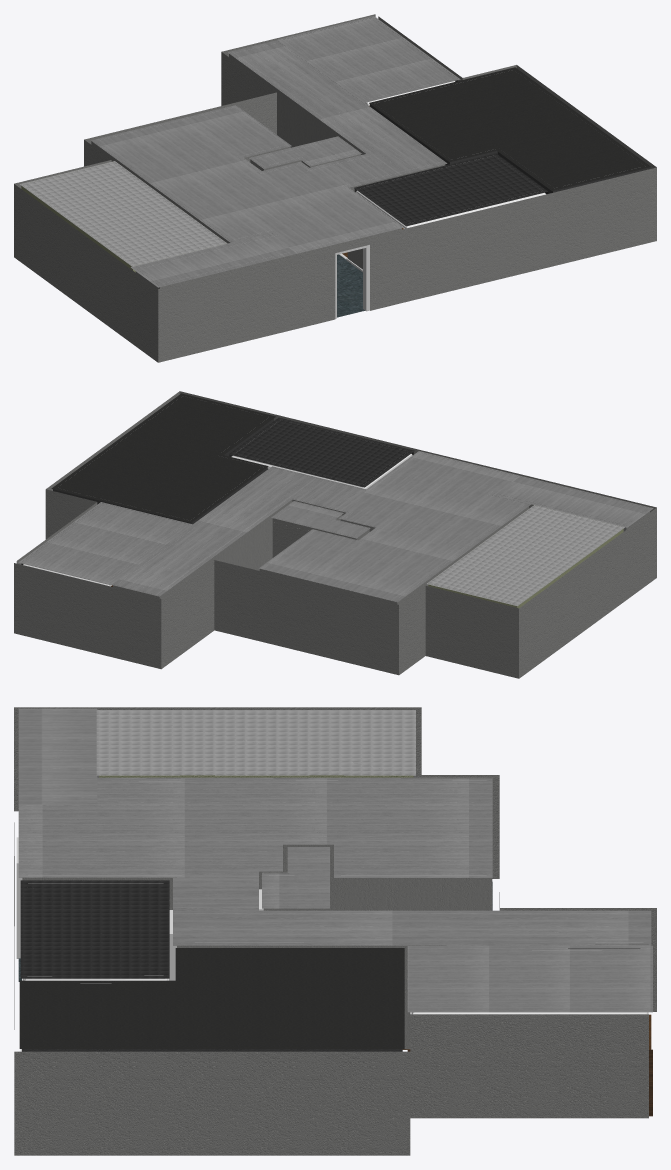
The model's file is House.v07.fbx.
The picture shows the model from 3 angles, top to bottom: view 1: azimuth 30°, elevation 25°; view 2: azimuth 150°, elevation 25°; view 3: azimuth 270°, elevation 25°; orthographic projection. The views are drawn at different scales.
Visible parts, largest first — view 1: Walls_Outside, Ceiling_Living Room, Ceiling_Garage, Ceiling_Kitchen, Ceiling_Hall, Ceiling_Office, Ceiling_Bathroom, Ceiling_Stairs, Walls_Living_Room, Ceiling_Closet, Floor_Living Room, Walls_Garage (+2 smaller); view 2: Walls_Outside, Ceiling_Living Room, Ceiling_Garage, Ceiling_Kitchen, Ceiling_Hall, Ceiling_Office, Ceiling_Bathroom, Ceiling_Stairs, Walls_Living_Room, Ceiling_Closet, Walls_Closet, Walls_Garage (+2 smaller); view 3: Walls_Outside, Ceiling_Living Room, Ceiling_Garage, Ceiling_Kitchen, Ceiling_Hall, Ceiling_Office, Ceiling_Bathroom, Walls_Living_Room, Ceiling_Stairs, Ceiling_Closet, Walls_Garage, Walls_Kitchen (+1 smaller).
Part boxes in pixels (x1,y1,x2,y2): Walls_Outside: (14,14,656,362); Ceiling_Living Room: (91,105,403,253); Ceiling_Garage: (369,67,650,190); Ceiling_Kitchen: (20,161,227,266); Ceiling_Hall: (228,40,447,187); Ceiling_Office: (277,16,460,102); Ceiling_Bathroom: (354,153,547,226); Ceiling_Stairs: (131,233,296,287); Walls_Living_Room: (91,54,445,288); Ceiling_Closet: (249,136,361,168); Floor_Living Room: (337,254,364,317); Walls_Garage: (370,103,649,193); Walls_Outside: (14,391,656,678); Ceiling_Living Room: (259,451,530,602); Ceiling_Garage: (51,393,275,522); Ceiling_Kitchen: (427,505,625,606); Ceiling_Hall: (111,466,366,596); Ceiling_Office: (18,502,193,585); Ceiling_Bathroom: (229,417,414,487); Ceiling_Stairs: (495,476,653,527); Walls_Living_Room: (113,490,649,604); Ceiling_Closet: (271,501,370,538); Walls_Closet: (272,514,369,557); Walls_Garage: (53,418,273,524); Walls_Outside: (14,707,656,1155); Ceiling_Living Room: (18,777,492,877); Ceiling_Garage: (19,948,404,1048); Ceiling_Kitchen: (96,710,415,775); Ceiling_Hall: (173,878,651,945); Ceiling_Office: (407,945,652,1012); Ceiling_Bathroom: (20,880,169,978); Walls_Living_Room: (22,778,648,1049); Ceiling_Stairs: (18,708,97,804); Ceiling_Closet: (262,847,329,908); Walls_Garage: (22,981,402,1051); Walls_Kitchen: (99,775,413,777).
Size of the model in its own units: 2664 by 379 by 2104.
